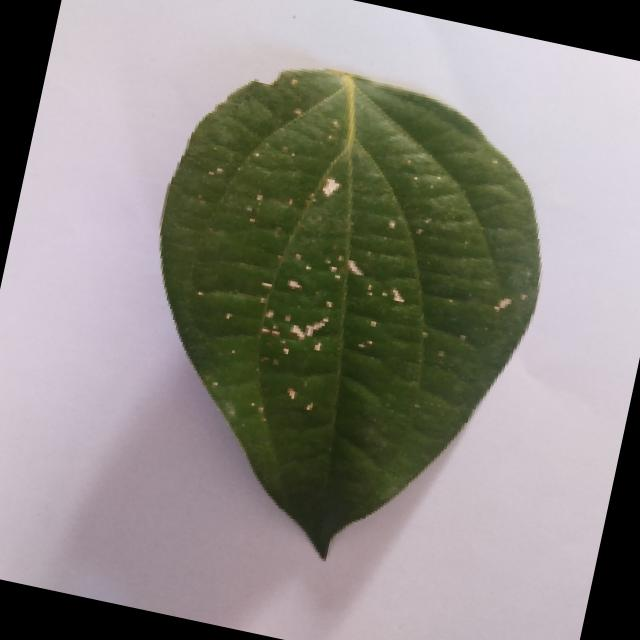pollu-disease: (96, 36, 573, 590)
